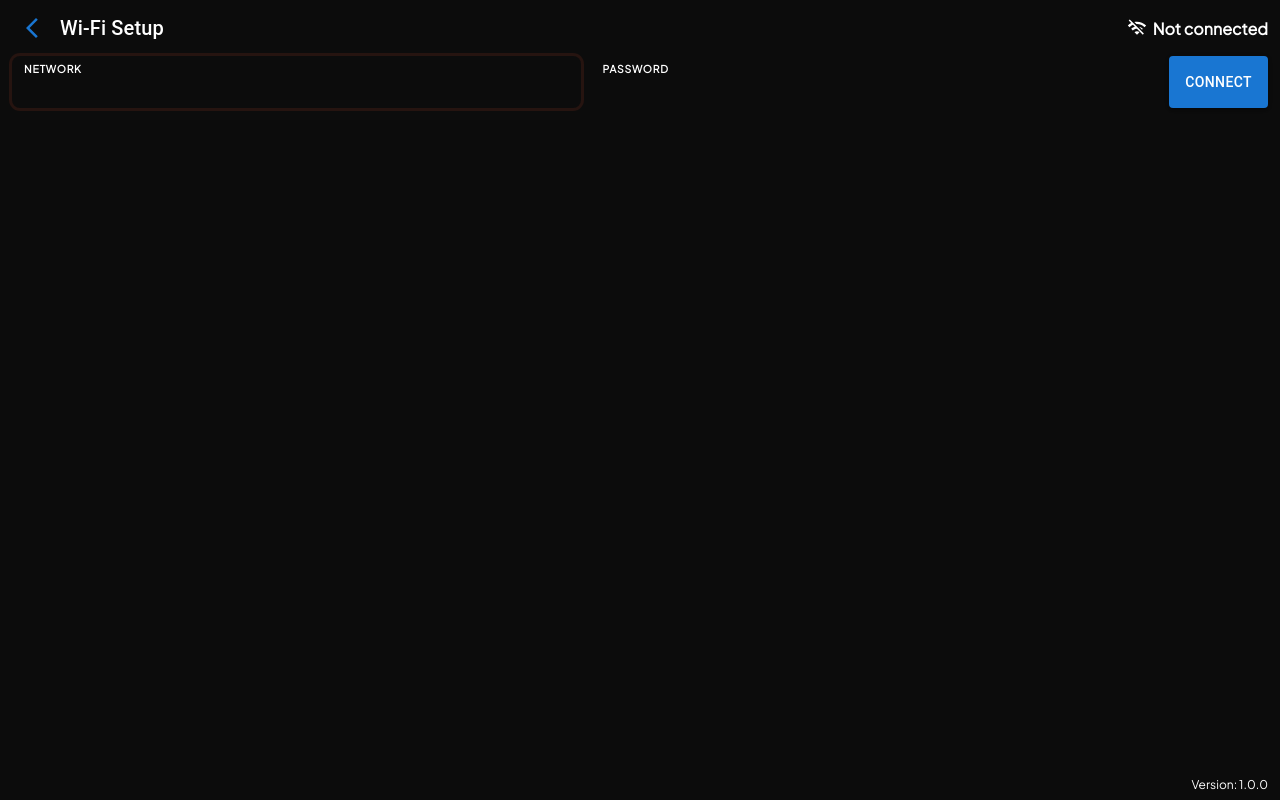
Test: the connection status › shows the failure reason from the device service in the failed state
Click the button "Connect": (1219, 82) [1169,56,1268,108]
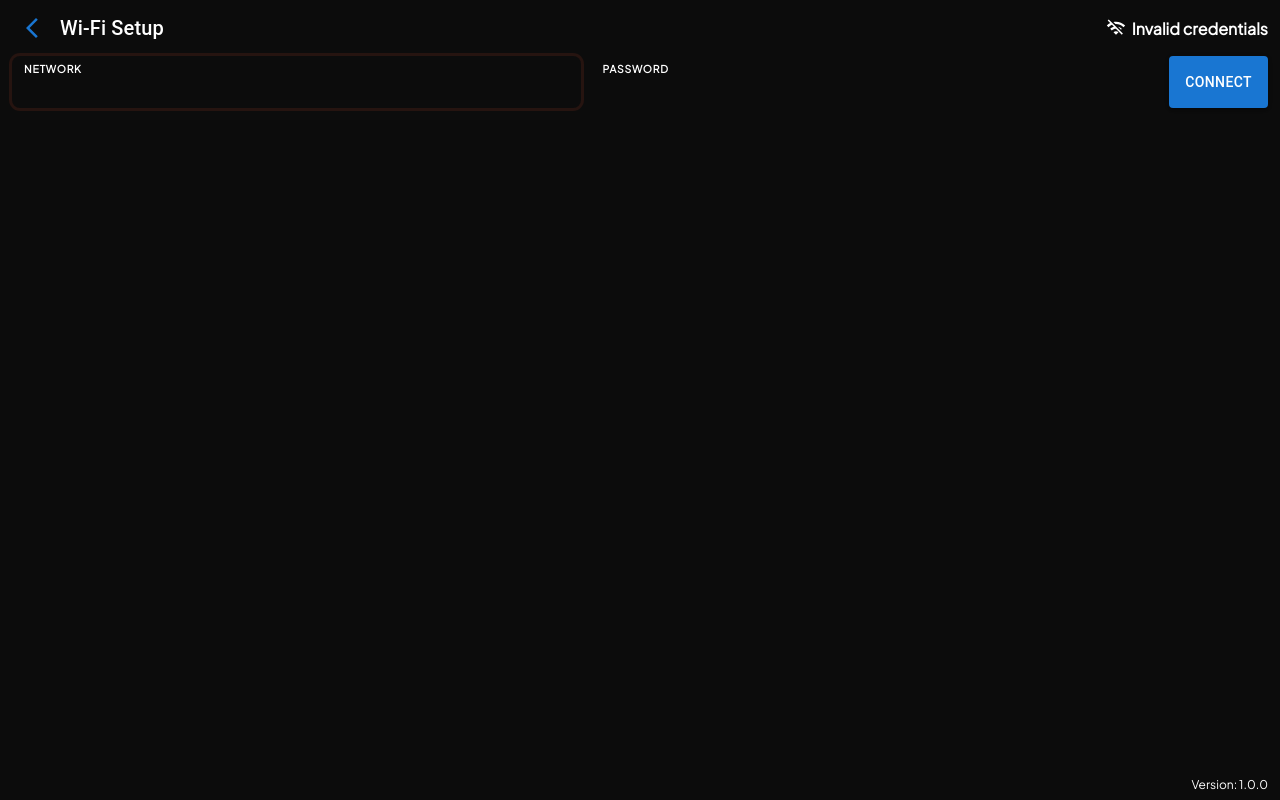
expect the text "Invalid credentials" is shown: met, box [1132,18,1268,38]
